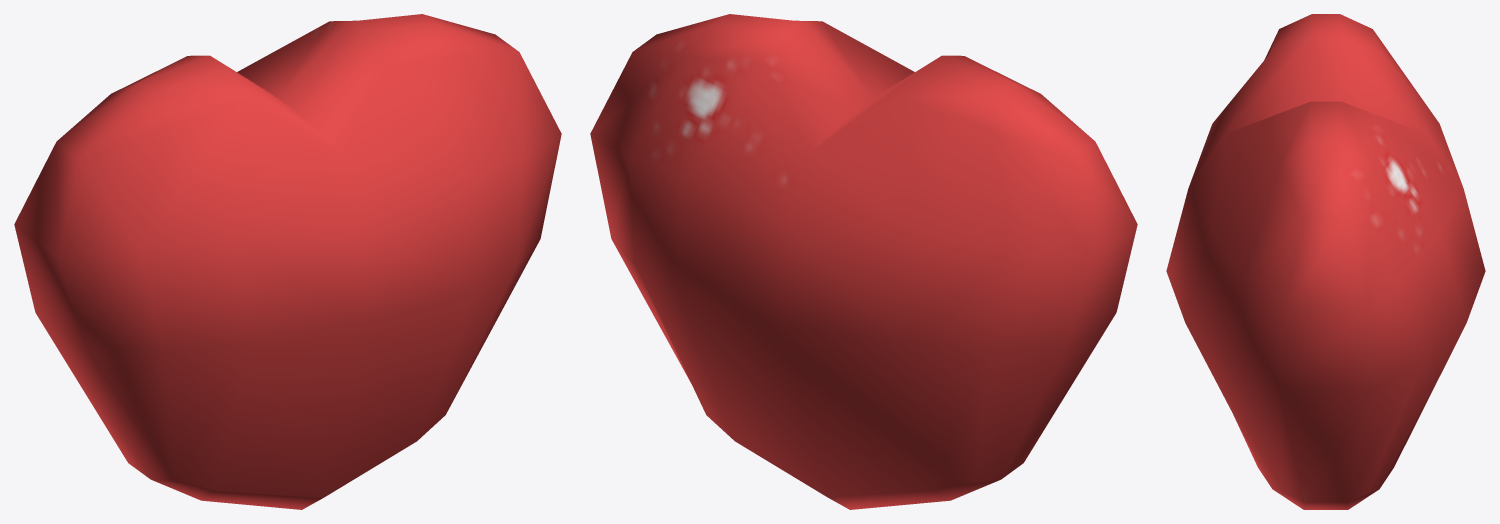
File: HeartDefault.fbx
3 views of the same model, side by side, from view 1: azimuth 30°, elevation 25°; view 2: azimuth 150°, elevation 25°; view 3: azimuth 270°, elevation 25° (orthographic). The views are drawn at different scales.
Visible parts, largest first — view 1: HeartNorm; view 2: HeartNorm; view 3: HeartNorm.
Part boxes in pixels (x1,y1,x2,y2): HeartNorm: (14, 14, 561, 509); HeartNorm: (590, 14, 1137, 509); HeartNorm: (1166, 14, 1485, 509).
Size of the model in its own units: 92.64 by 80.05 by 54.49.
